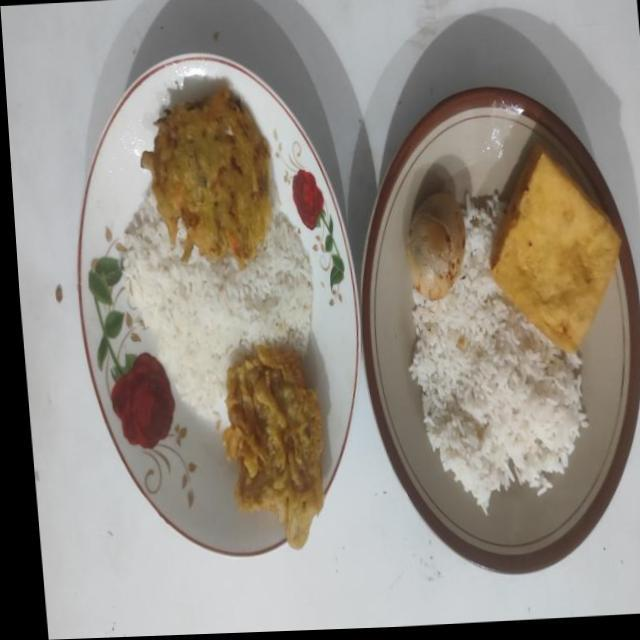nasi_putih: (408, 193, 588, 512), (120, 188, 314, 424)
tahu_goreng: (490, 142, 620, 352)
